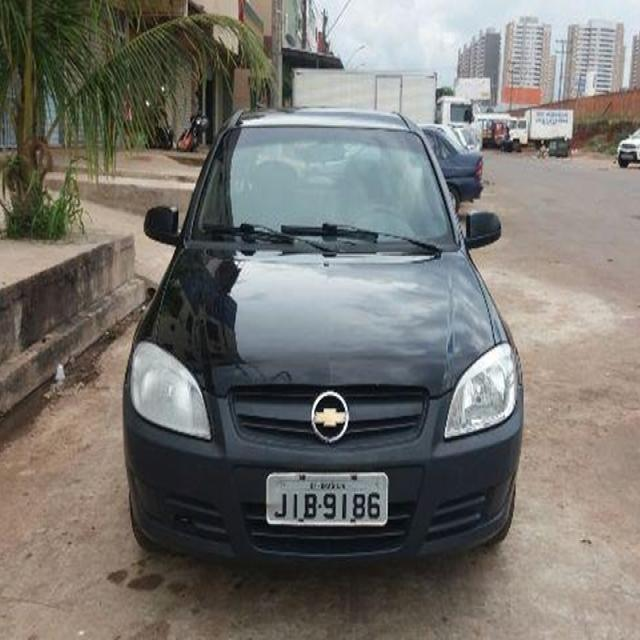Placa: (264, 469, 392, 532)
